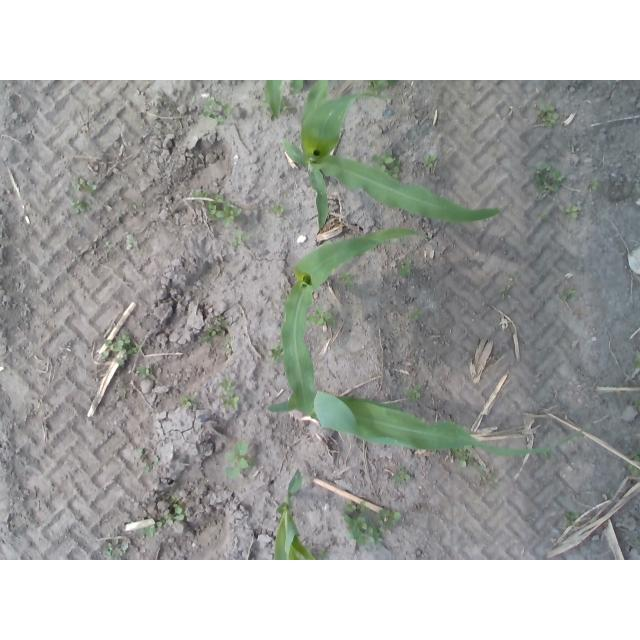Maize: (283, 80, 510, 230), (282, 228, 427, 417), (268, 392, 593, 457), (273, 469, 315, 560), (266, 81, 305, 120)
Weeds: (225, 441, 249, 479), (538, 164, 567, 193), (98, 339, 126, 366), (350, 527, 383, 546), (216, 203, 242, 225), (378, 508, 401, 532), (104, 540, 129, 561), (372, 148, 396, 169), (309, 307, 335, 325), (121, 332, 139, 355), (345, 514, 368, 532), (169, 493, 184, 520), (221, 392, 240, 411), (368, 80, 397, 92), (203, 323, 226, 338), (233, 229, 252, 247), (156, 509, 175, 527), (338, 272, 356, 290), (396, 259, 412, 278), (390, 472, 410, 485), (456, 451, 472, 467), (408, 385, 421, 403), (539, 102, 557, 115), (219, 377, 234, 392), (565, 513, 580, 528), (180, 394, 196, 408), (202, 100, 215, 117), (217, 100, 232, 114), (268, 204, 284, 217), (136, 364, 150, 378), (144, 459, 159, 472), (566, 205, 579, 220), (270, 345, 282, 360), (194, 189, 211, 199), (127, 234, 137, 251), (72, 201, 85, 214), (358, 502, 370, 515), (563, 288, 576, 300), (85, 180, 97, 192), (410, 308, 422, 320), (425, 155, 437, 167), (144, 527, 157, 538), (546, 113, 559, 124), (345, 502, 356, 514), (73, 178, 83, 191), (319, 549, 330, 560), (390, 166, 401, 177), (501, 286, 510, 298), (541, 209, 551, 219), (206, 203, 216, 213), (211, 195, 224, 202), (592, 178, 599, 191), (134, 449, 143, 459), (630, 465, 639, 475), (215, 116, 224, 125), (634, 399, 640, 411), (633, 453, 640, 463), (105, 243, 114, 250), (226, 345, 232, 355), (218, 315, 226, 322), (515, 272, 522, 280), (634, 360, 640, 369), (479, 465, 486, 472)
